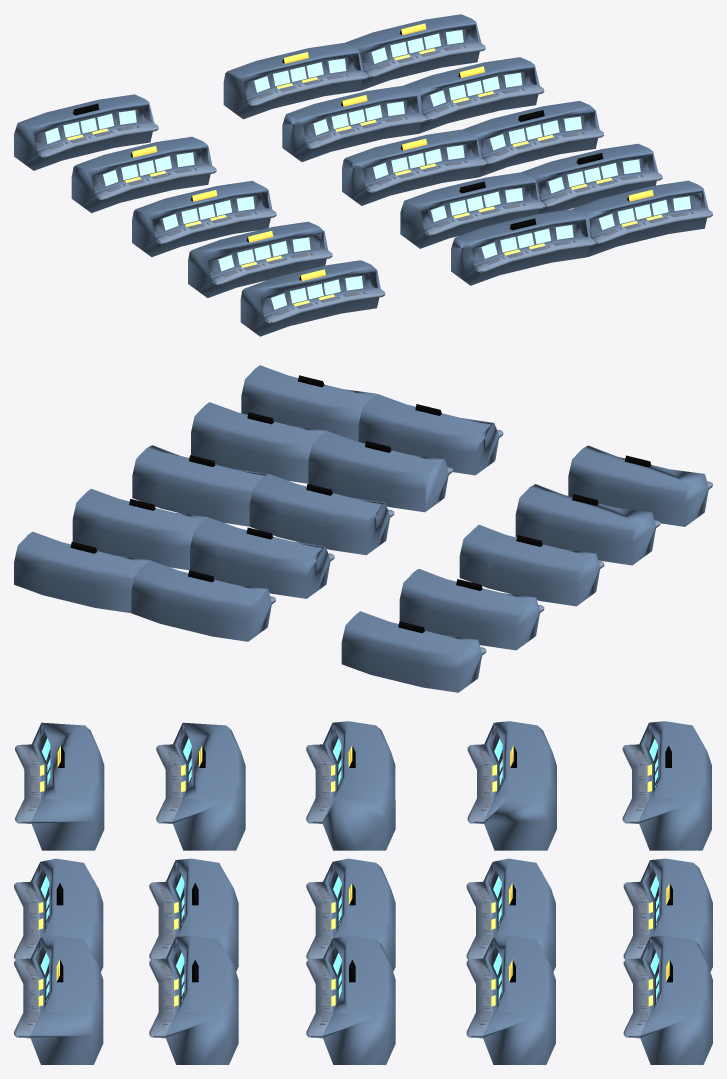
File: jsc-mission-control.glb
3 renders of one model, top to bottom at view 1: azimuth 30°, elevation 25°; view 2: azimuth 150°, elevation 25°; view 3: azimuth 270°, elevation 25°, orthographic. The views are drawn at different scales.
Parts seen in each view (by area): view 1: jscmiscon1; view 2: jscmiscon1; view 3: jscmiscon1.
Part boxes in pixels (x1,y1,x2,y2): jscmiscon1: (14,14,712,336); jscmiscon1: (14,365,712,692); jscmiscon1: (14,721,712,1064).
Bounding box in the file's own units: 7.87 × 0.7588 × 8.
